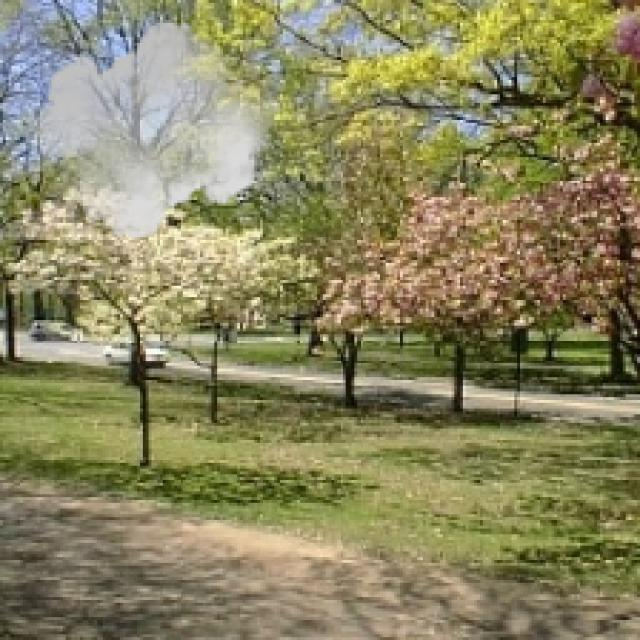smoke: (26, 12, 277, 248)
